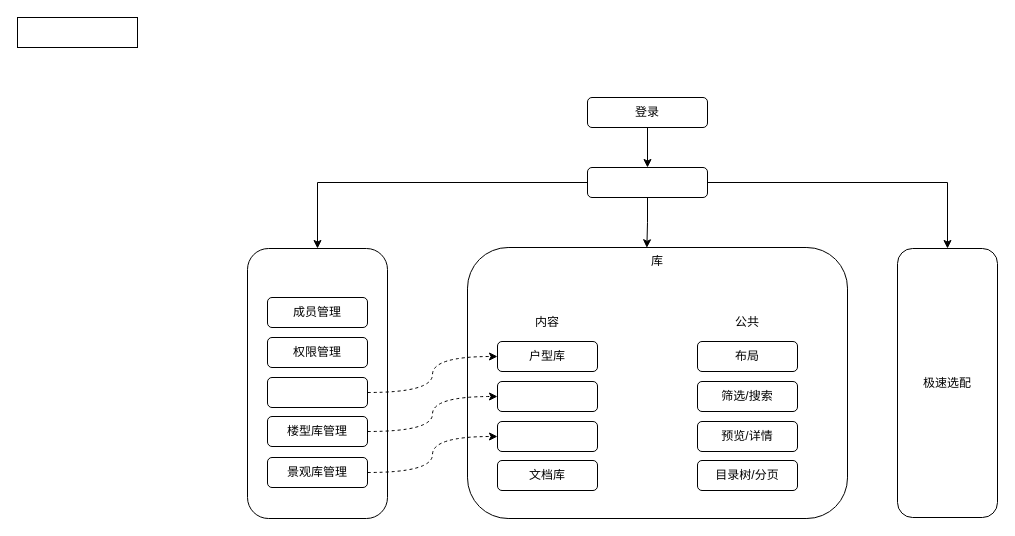
Image size: 1015x536. Some labels were removed from this diagram. The box of each missing label's shape, as (x1, y1, x2, y2) in pixels:
Version.20221122: (16, 16, 138, 48)
后台管理: (246, 248, 388, 518)
户型库管理: (266, 376, 368, 408)
景观库: (496, 420, 598, 452)
楼型库: (496, 380, 598, 412)
首页: (586, 166, 708, 198)
